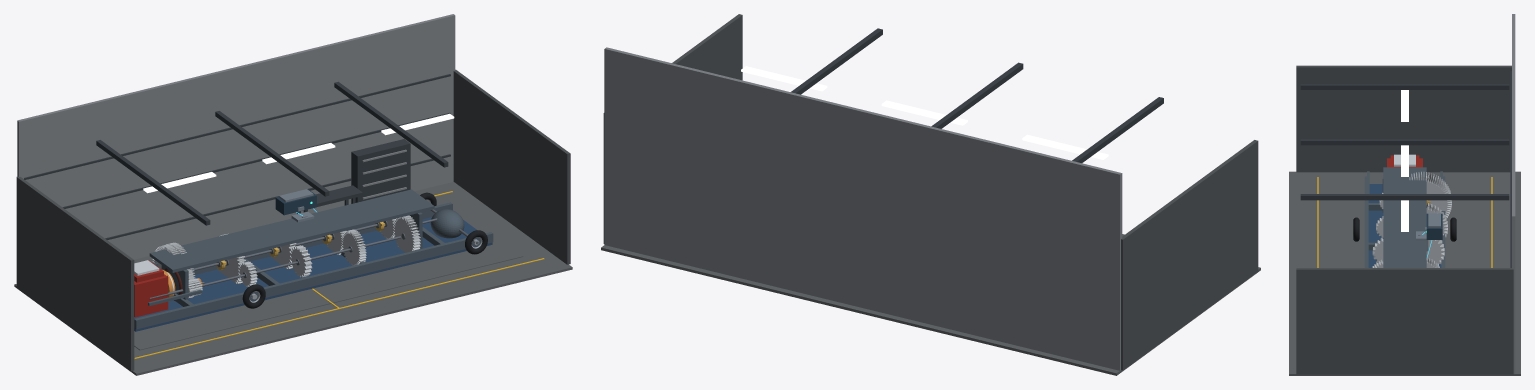
Rendered from CarTransmission.glb.
The picture shows the model from 3 angles, left to right: view 1: azimuth 30°, elevation 25°; view 2: azimuth 150°, elevation 25°; view 3: azimuth 270°, elevation 25°; orthographic projection. The views are drawn at different scales.
Parts seen in each view (by area): view 1: Garage_BackWall, Garage_LeftWall, Garage_RightWall, Garage_Floor, Presentation_Floor, Gearbox_Top_Rail, Chassis_Base, Chassis_Rail_L, Garage_ToolCabinet, Garage_BackTrim_3, Engine_Block, Garage_CeilingBeam_2 (+14 smaller); view 2: Garage_BackWall, Garage_LeftWall, Garage_Floor, Garage_RightWall, Garage_CeilingBeam_2, Garage_CeilingBeam_1, Garage_CeilingBeam_3, Garage_CeilingFixture_2, Garage_CeilingFixture_1, Garage_CeilingFixture_3; view 3: Garage_RightWall, Garage_LeftWall, Garage_Floor, Presentation_Floor, Gearbox_Top_Rail, Garage_CeilingBeam_2, Garage_CeilingBeam_3, Garage_BackWall, Garage_CeilingBeam_1, Chassis_Base, Gear_1_Output, Garage_BackTrim_3 (+8 smaller).
Part boxes in pixels (left/top/right/bottom): Garage_BackWall: left=17, top=14, right=455, bottom=259; Garage_LeftWall: left=16, top=176, right=134, bottom=371; Garage_RightWall: left=453, top=69, right=570, bottom=264; Garage_Floor: left=14, top=182, right=572, bottom=375; Presentation_Floor: left=134, top=200, right=523, bottom=350; Gearbox_Top_Rail: left=149, top=189, right=434, bottom=272; Chassis_Base: left=134, top=217, right=492, bottom=331; Chassis_Rail_L: left=134, top=232, right=493, bottom=329; Garage_ToolCabinet: left=351, top=139, right=410, bottom=202; Garage_BackTrim_3: left=24, top=74, right=450, bottom=179; Engine_Block: left=134, top=274, right=168, bottom=317; Garage_CeilingBeam_2: left=215, top=111, right=329, bottom=196; Garage_BackWall: left=604, top=47, right=1122, bottom=370; Garage_LeftWall: left=1121, top=140, right=1258, bottom=370; Garage_Floor: left=601, top=234, right=1260, bottom=375; Garage_RightWall: left=603, top=14, right=742, bottom=243; Garage_CeilingBeam_2: left=931, top=62, right=1023, bottom=128; Garage_CeilingBeam_1: left=1072, top=97, right=1163, bottom=162; Garage_CeilingBeam_3: left=791, top=28, right=882, bottom=94; Garage_CeilingFixture_2: left=881, top=100, right=967, bottom=125; Garage_CeilingFixture_1: left=1022, top=134, right=1108, bottom=159; Garage_CeilingFixture_3: left=741, top=66, right=827, bottom=91; Garage_RightWall: left=1296, top=268, right=1513, bottom=374; Garage_LeftWall: left=1296, top=65, right=1511, bottom=172; Garage_Floor: left=1289, top=171, right=1520, bottom=375; Presentation_Floor: left=1332, top=183, right=1477, bottom=267; Gearbox_Top_Rail: left=1383, top=167, right=1426, bottom=267; Garage_CeilingBeam_2: left=1300, top=139, right=1509, bottom=145; Garage_CeilingBeam_3: left=1300, top=194, right=1509, bottom=200; Garage_BackWall: left=1512, top=14, right=1515, bottom=373; Garage_CeilingBeam_1: left=1300, top=84, right=1509, bottom=89; Chassis_Base: left=1368, top=184, right=1441, bottom=267; Gear_1_Output: left=1409, top=174, right=1451, bottom=218; Garage_BackTrim_3: left=1510, top=71, right=1511, bottom=267.
Size of the model in its own units: 33.24 by 12.49 by 16.
